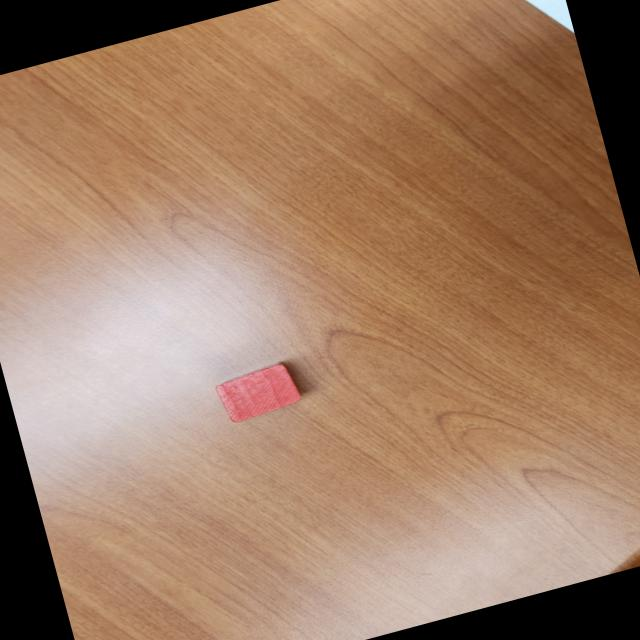red: (212, 356, 308, 426)
